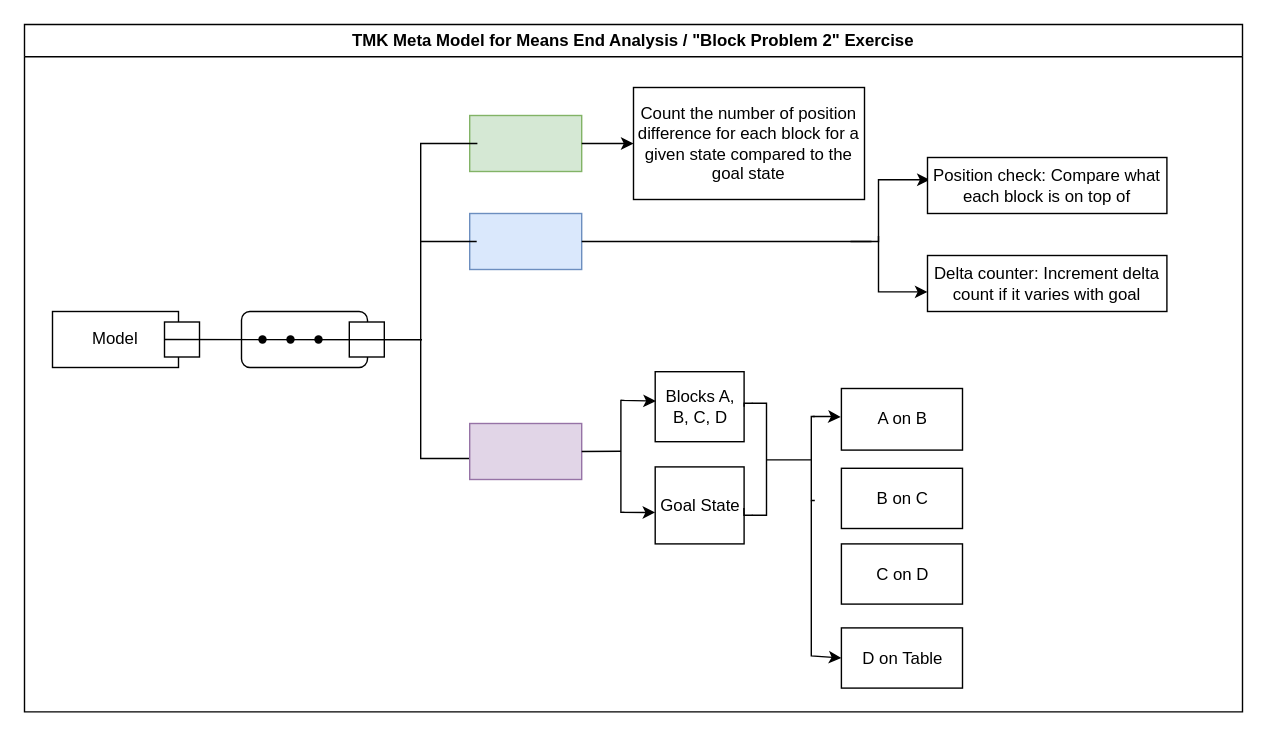
Image size: 1267x736. Some labels were removed from this diagram. The shapes that lost their labels are listed below. From the top down, each one's centre as x and y in pixels, then its label:
[525,143]: Task
[525,241]: Method
[525,450]: Knowledge
